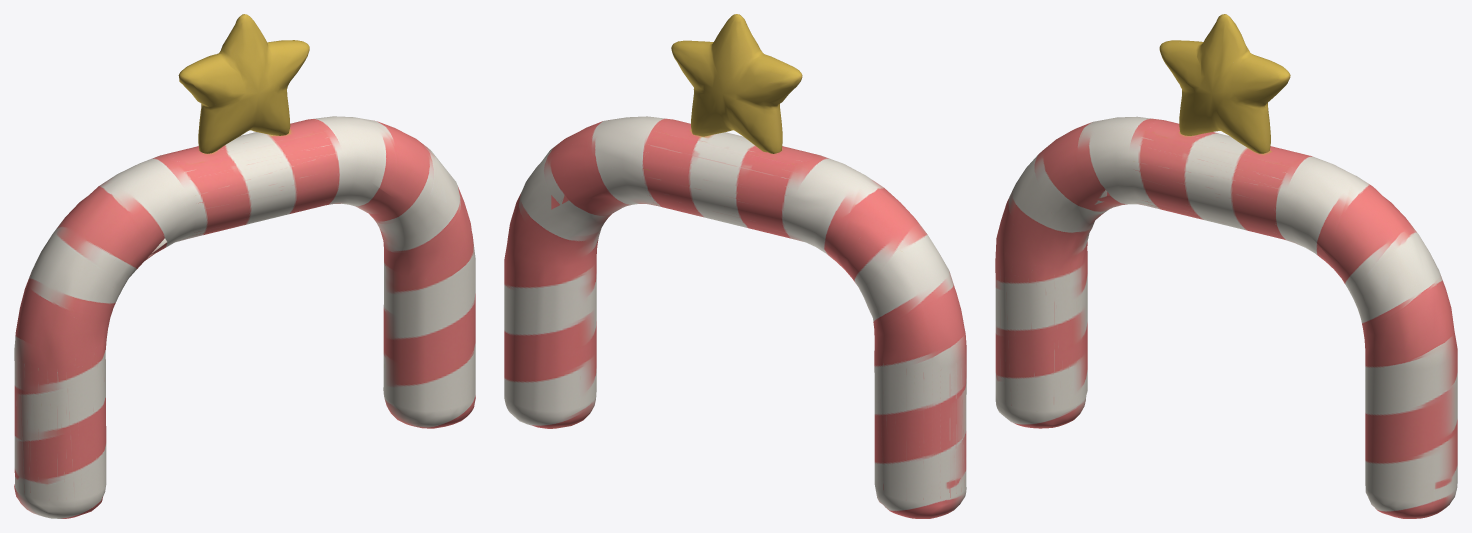
File: arch.glb
3 renders of one model, left to right at view 1: azimuth 30°, elevation 25°; view 2: azimuth 150°, elevation 25°; view 3: azimuth 330°, elevation 25°, orthographic.
Size of the model in its own units: 0.957 by 0.9121 by 0.1655.
Materials: 1 (1 with a texture image).
